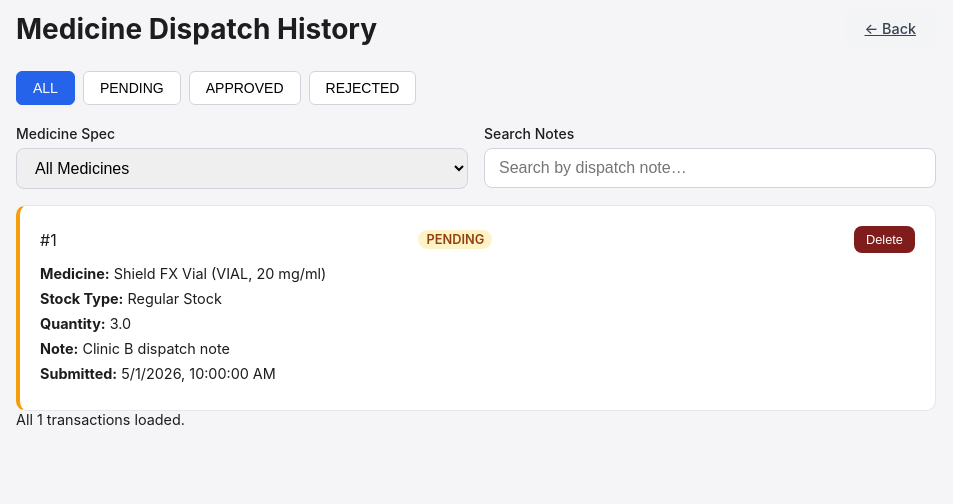
Test: MyTransactions — delete transaction › shows an error alert when deletion fails
The width and height of the screenshot is (953, 504).
Expected: the text "Medicine: Shield FX Vial (VIAL, 20 mg/ml)" is shown, [40, 265, 326, 282]
Click the button "Delete" at (884,240), box [854, 226, 915, 253]
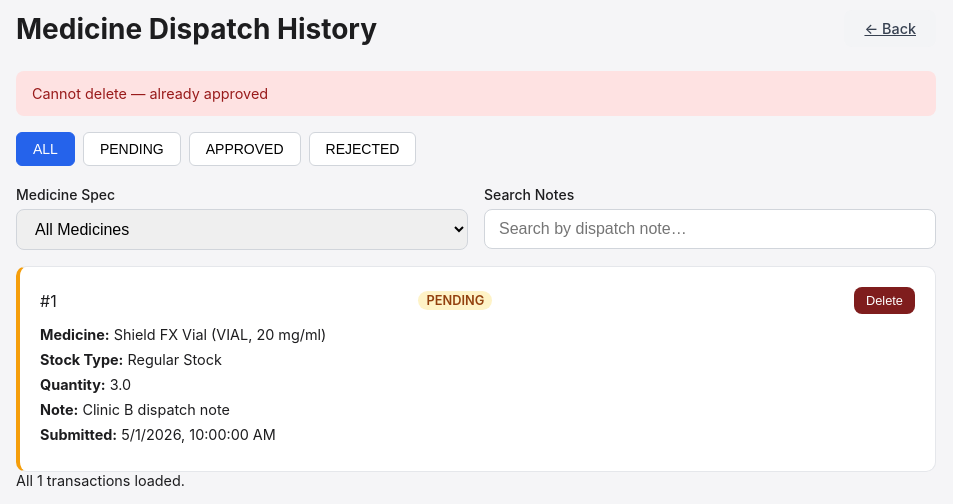
Expected: the text "Medicine: Shield FX Vial (VIAL, 20 mg/ml)" is shown, [40, 326, 326, 343]
Expected: the message reads "Cannot delete — already approved", [32, 85, 268, 102]
